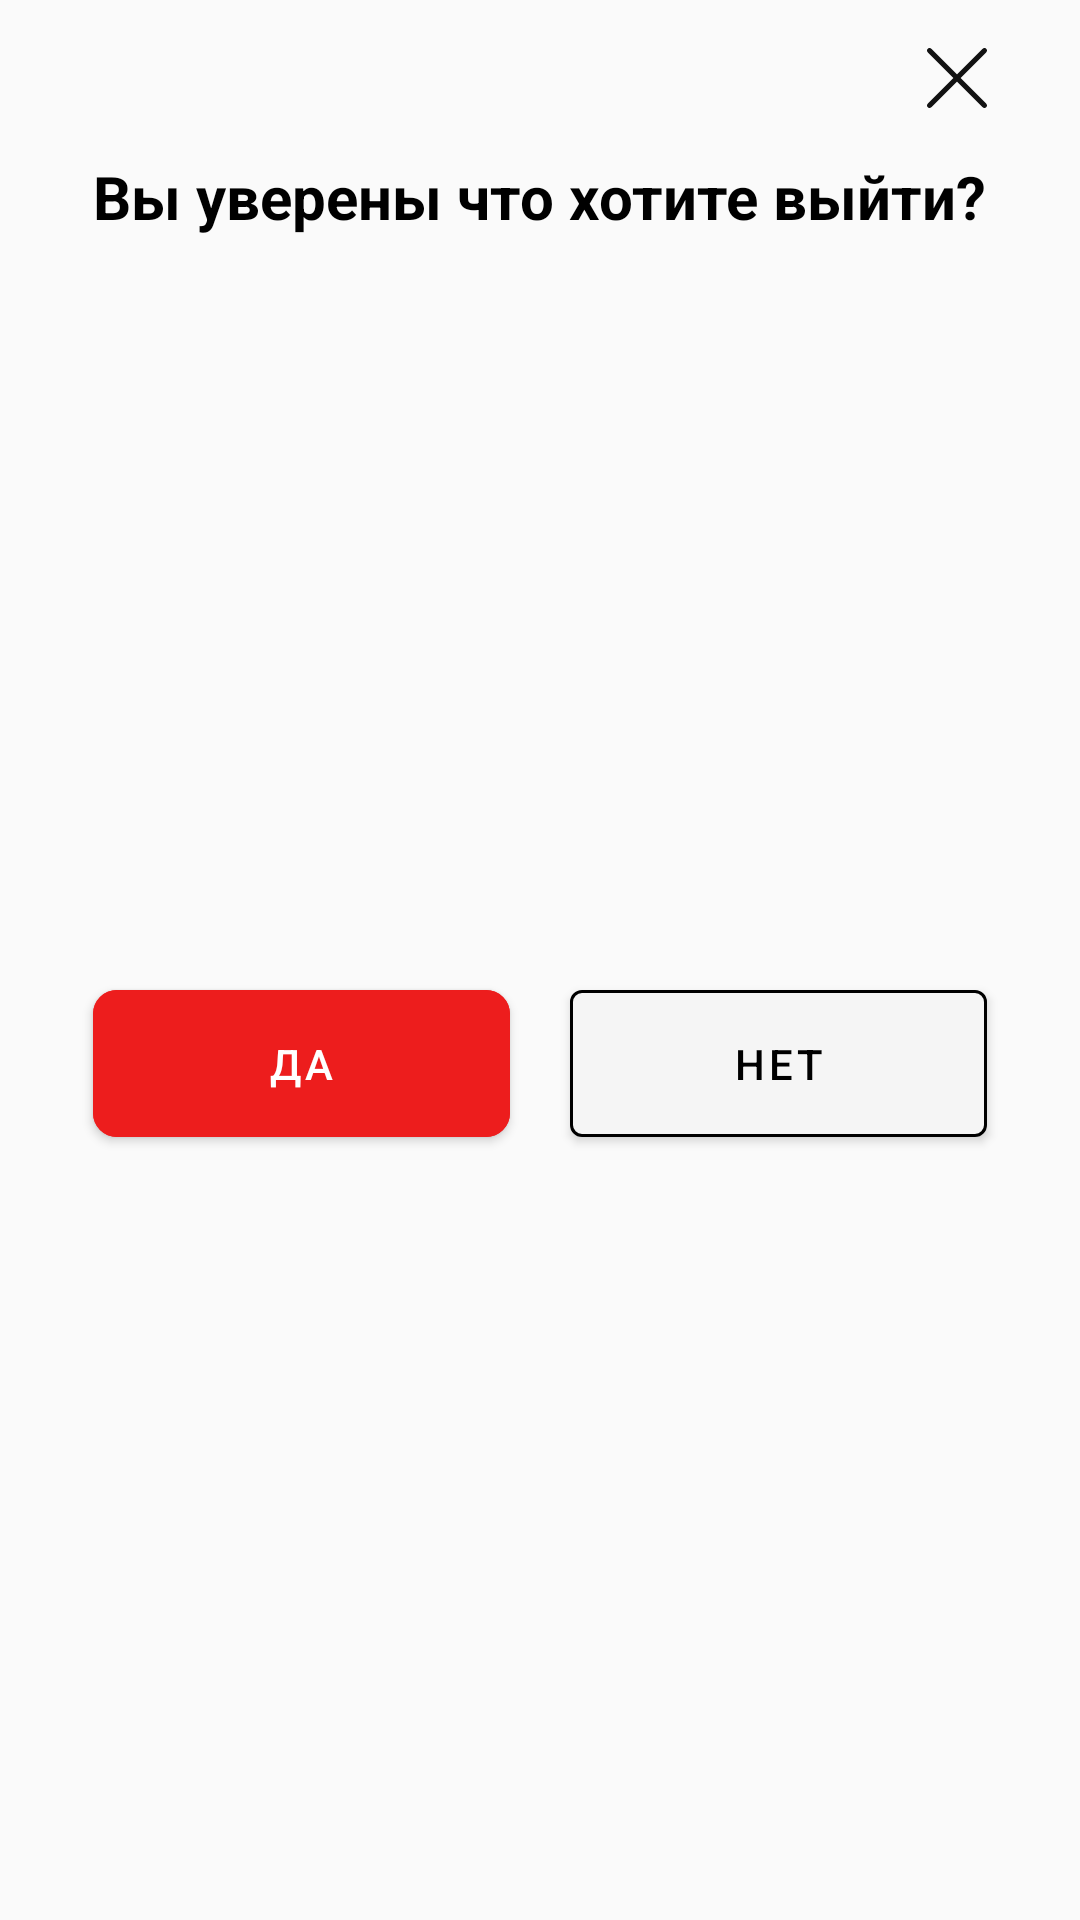

Point at icon controls on the screen. Image size 1080x1920, points as (x=x, y=y).
close: (x=957, y=78)
